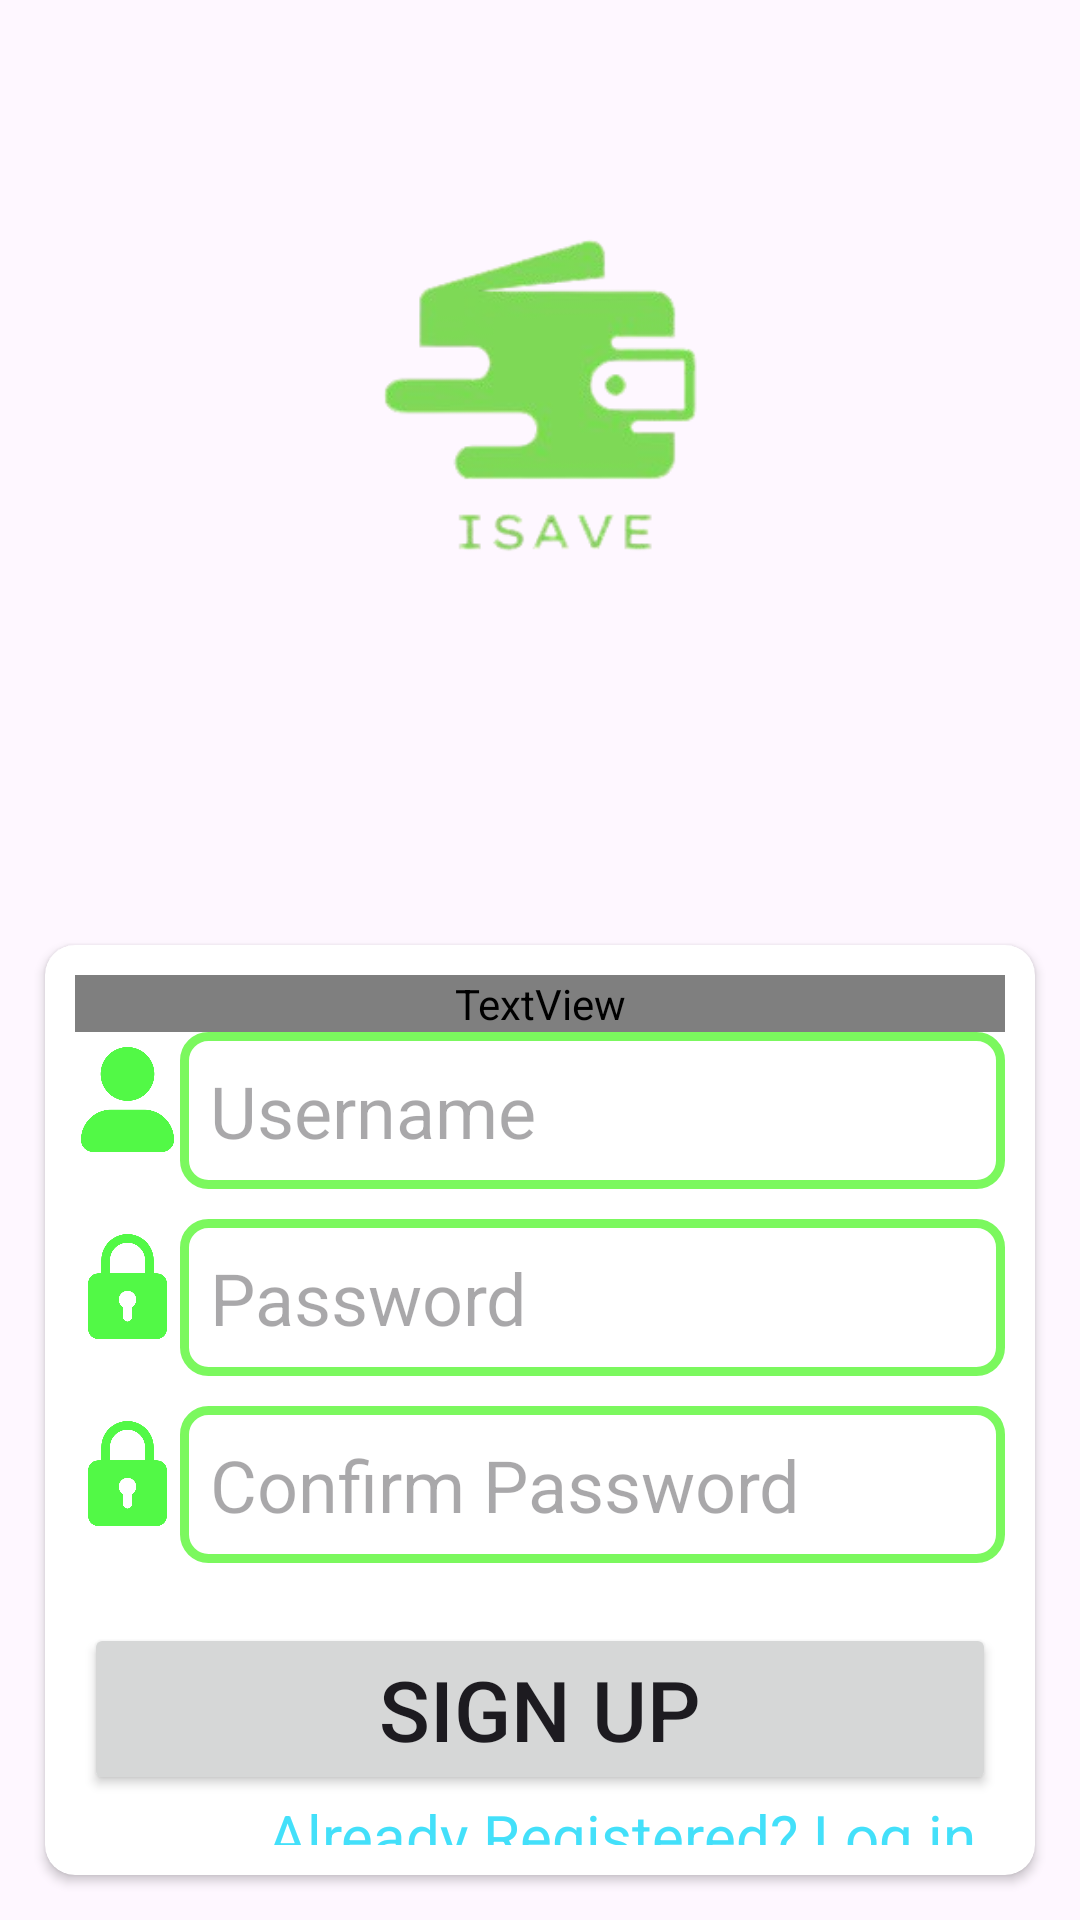

Screen size 1080 × 1920. Icon name, then its box in pixels as (x1,y1,x2,y2):
padlock: (88,1234,167,1339), (88,1421,167,1526)
